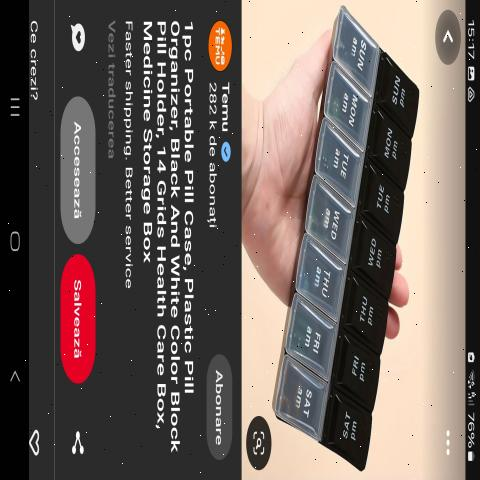PillBox: (265, 11, 425, 477)
